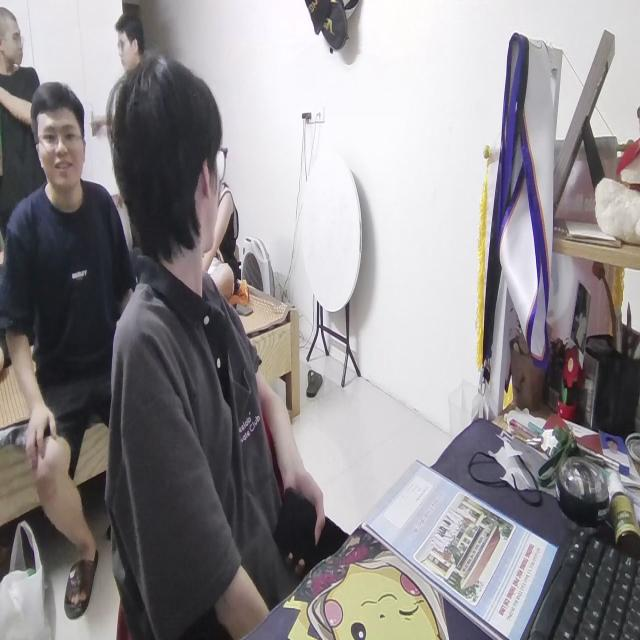book: (362, 453, 556, 640)
extra_person: (3, 91, 124, 576), (0, 12, 48, 228), (111, 14, 140, 76)
phone: (276, 480, 345, 571)
student: (106, 55, 327, 631)
